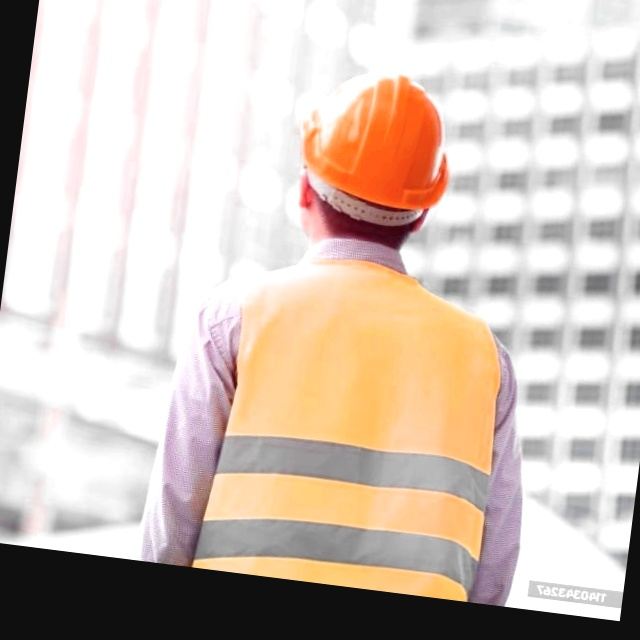Con_Casco: (282, 60, 464, 262)
Con_Chaleco: (193, 250, 511, 602)
